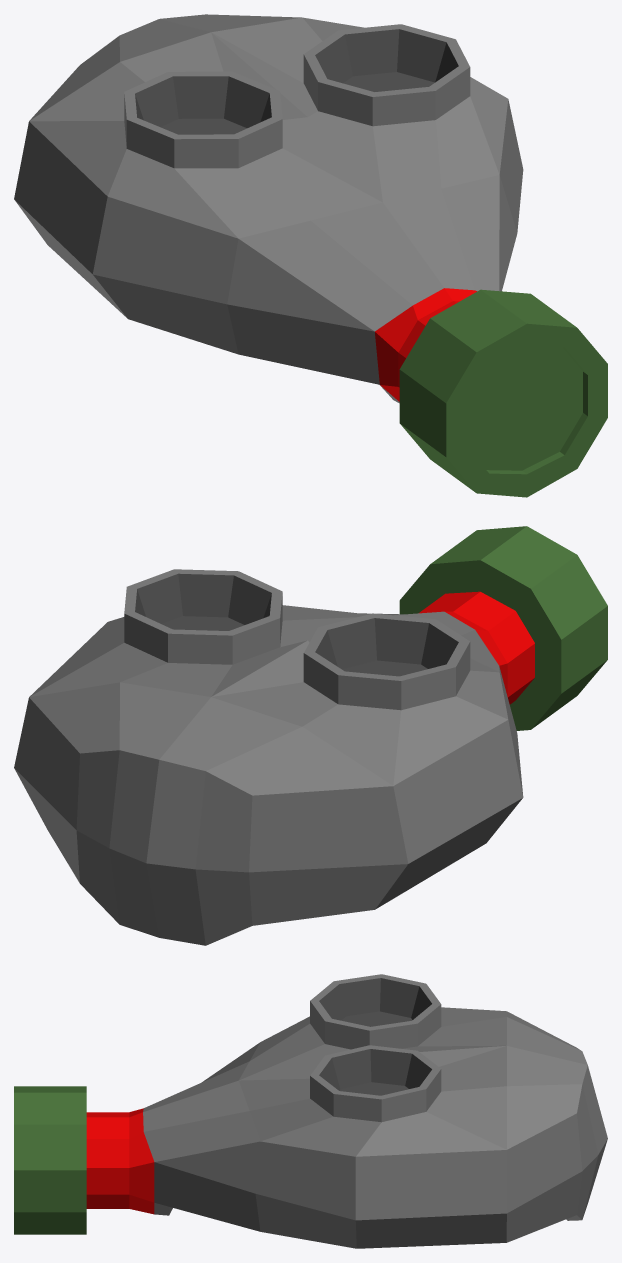
File: Mask.fbx
3 renders of one model, top to bottom at view 1: azimuth 30°, elevation 25°; view 2: azimuth 150°, elevation 25°; view 3: azimuth 270°, elevation 25°, orthographic. The views are drawn at different scales.
Visible parts, largest first — view 1: Mask; view 2: Mask; view 3: Mask.
Part boxes in pixels (box(x1,y1,x2,y2)): Mask: box(14, 14, 607, 497); Mask: box(14, 526, 607, 945); Mask: box(14, 974, 607, 1248).
Size of the model in its own units: 46.63 by 25.47 by 71.4.
